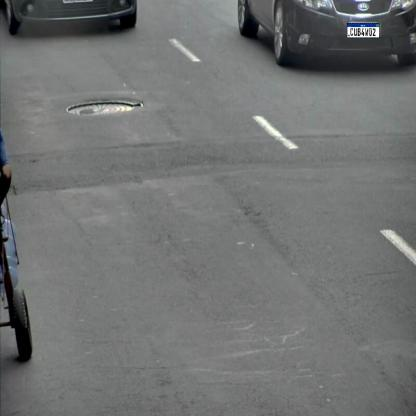PlacaM: (346, 23, 380, 38)
